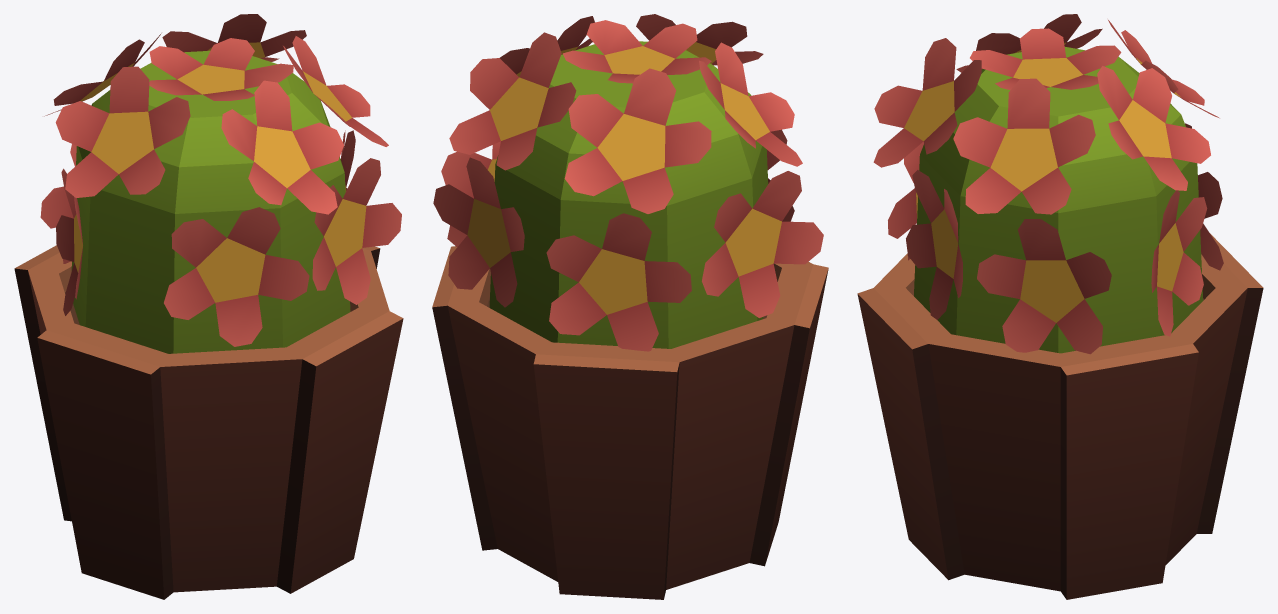
The model's file is farmpack2023flowerpotredflowers.fbx.
The picture shows the model from 3 angles, left to right: view 1: azimuth 30°, elevation 25°; view 2: azimuth 150°, elevation 25°; view 3: azimuth 270°, elevation 25°; orthographic projection.
Visible parts, largest first — view 1: Cylinder.429; view 2: Cylinder.429; view 3: Cylinder.429.
Part boxes in pixels (x1=…): Cylinder.429: x1=14, y1=14, x2=403, y2=599; Cylinder.429: x1=432, y1=14, x2=828, y2=599; Cylinder.429: x1=857, y1=14, x2=1263, y2=599.
Bounding box in the file's own units: 1.11 × 1.1 × 1.49.
